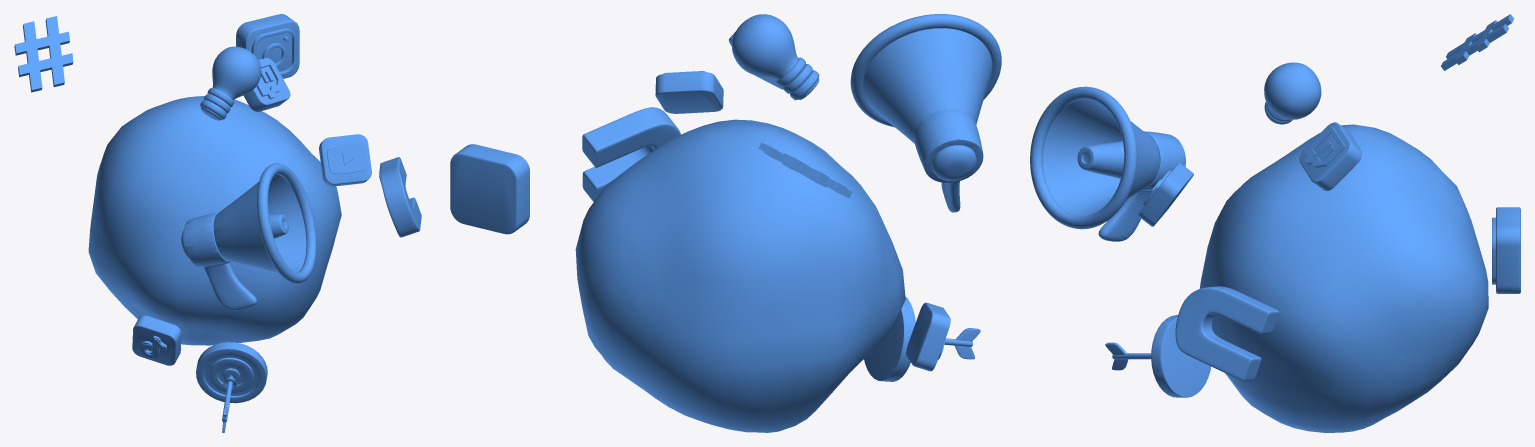
The model's file is campaignCluster.glb.
The picture shows the model from 3 angles, left to right: view 1: azimuth 30°, elevation 25°; view 2: azimuth 150°, elevation 25°; view 3: azimuth 270°, elevation 25°; orthographic projection. The views are drawn at different scales.
Parts seen in each view (by area): view 1: blob, megaphone, target, bulb, hashtag, background.004, magnet, background.002, background.003, background.001, outer.001, inner.003 (+1 smaller); view 2: blob, megaphone, background.004, magnet, bulb, target, background.001, background.002, hashtag; view 3: blob, megaphone, magnet, target, bulb, background.004, background.001, background.003, hashtag, inner.004.
Part boxes in pixels (left/top/right/bottom): blob: left=88, top=96, right=341, bottom=345; megaphone: left=181, top=163, right=316, bottom=310; target: left=196, top=342, right=267, bottom=432; bulb: left=200, top=46, right=261, bottom=120; hashtag: left=14, top=16, right=73, bottom=92; background.004: left=236, top=14, right=299, bottom=78; magnet: left=379, top=157, right=421, bottom=237; background.002: left=132, top=315, right=181, bottom=365; background.003: left=319, top=134, right=371, bottom=186; background.001: left=243, top=58, right=290, bottom=111; outer.001: left=327, top=144, right=366, bottom=173; inner.003: left=251, top=28, right=296, bottom=75; blob: left=575, top=119, right=905, bottom=432; megaphone: left=850, top=14, right=1001, bottom=212; background.004: left=450, top=144, right=529, bottom=234; magnet: left=582, top=107, right=680, bottom=201; bulb: left=732, top=14, right=819, bottom=100; target: left=864, top=296, right=980, bottom=381; background.001: left=655, top=72, right=723, bottom=113; background.002: left=906, top=302, right=950, bottom=371; hashtag: left=758, top=142, right=852, bottom=198; blob: left=1199, top=124, right=1488, bottom=432; megaphone: left=1030, top=86, right=1185, bottom=241; magnet: left=1175, top=286, right=1279, bottom=381; target: left=1105, top=315, right=1211, bottom=397; bulb: left=1264, top=62, right=1333, bottom=124; background.004: left=1496, top=207, right=1520, bottom=293; background.001: left=1299, top=122, right=1361, bottom=190; background.003: left=1138, top=163, right=1193, bottom=226; hashtag: left=1441, top=14, right=1513, bottom=70; inner.004: left=1304, top=126, right=1345, bottom=167.
Size of the model in its own units: 1.38 by 1.32 by 1.64.
